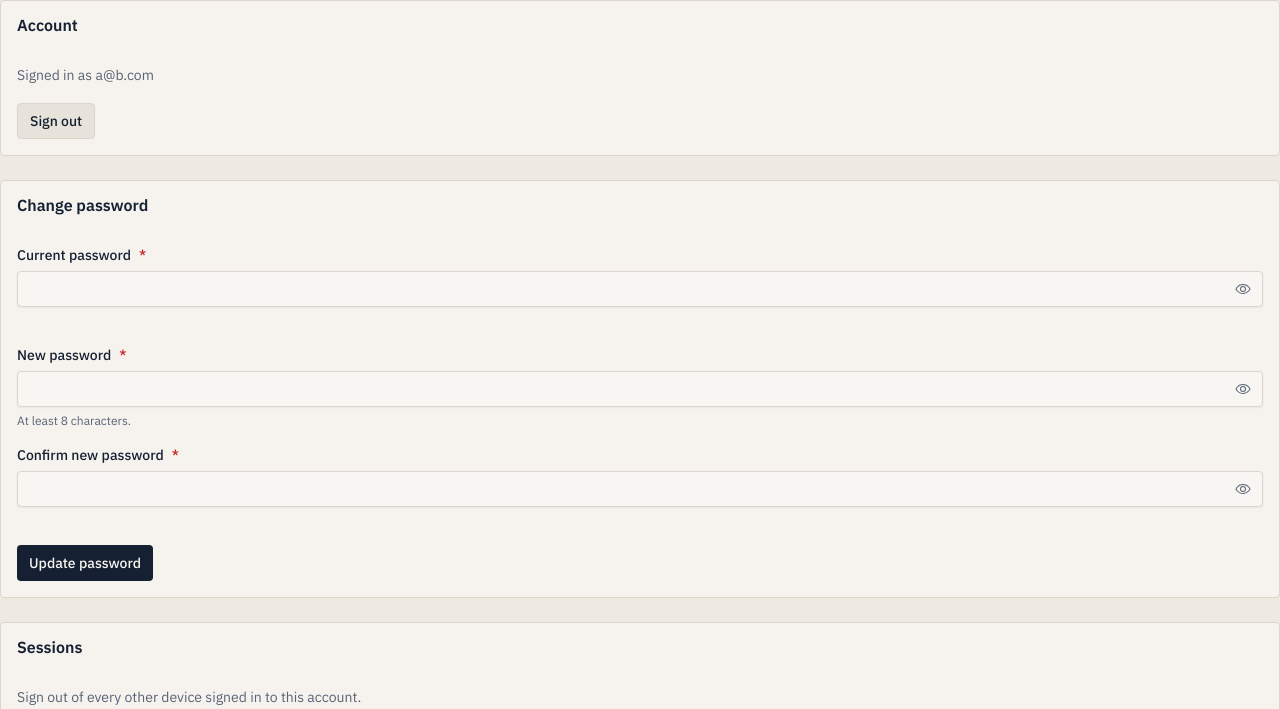
Test: SettingsPanel › change password › shows exactly one failure message — a Banner, never also a toast
Type "wrong" into the password field labelled "Current password *" at [640, 289], box [17,271,1263,307]
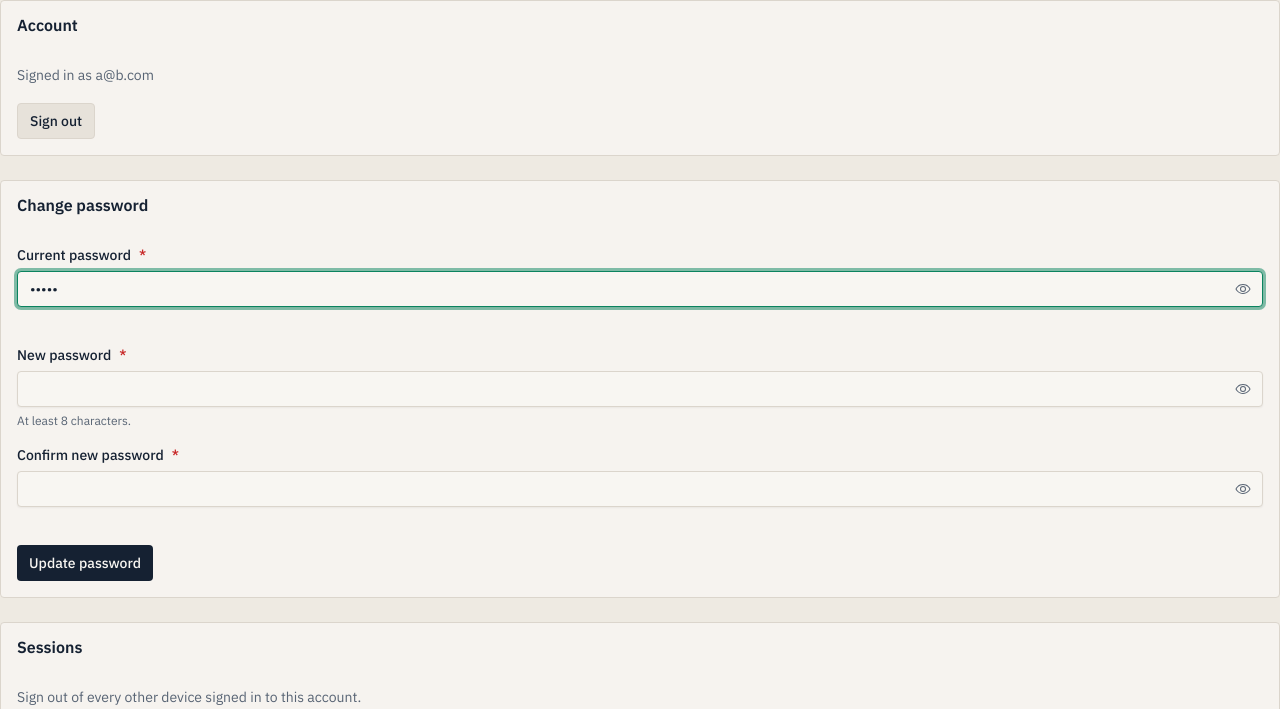
Type "password123" into the password field labelled "New password *" at [640, 389], box [17,371,1263,407]
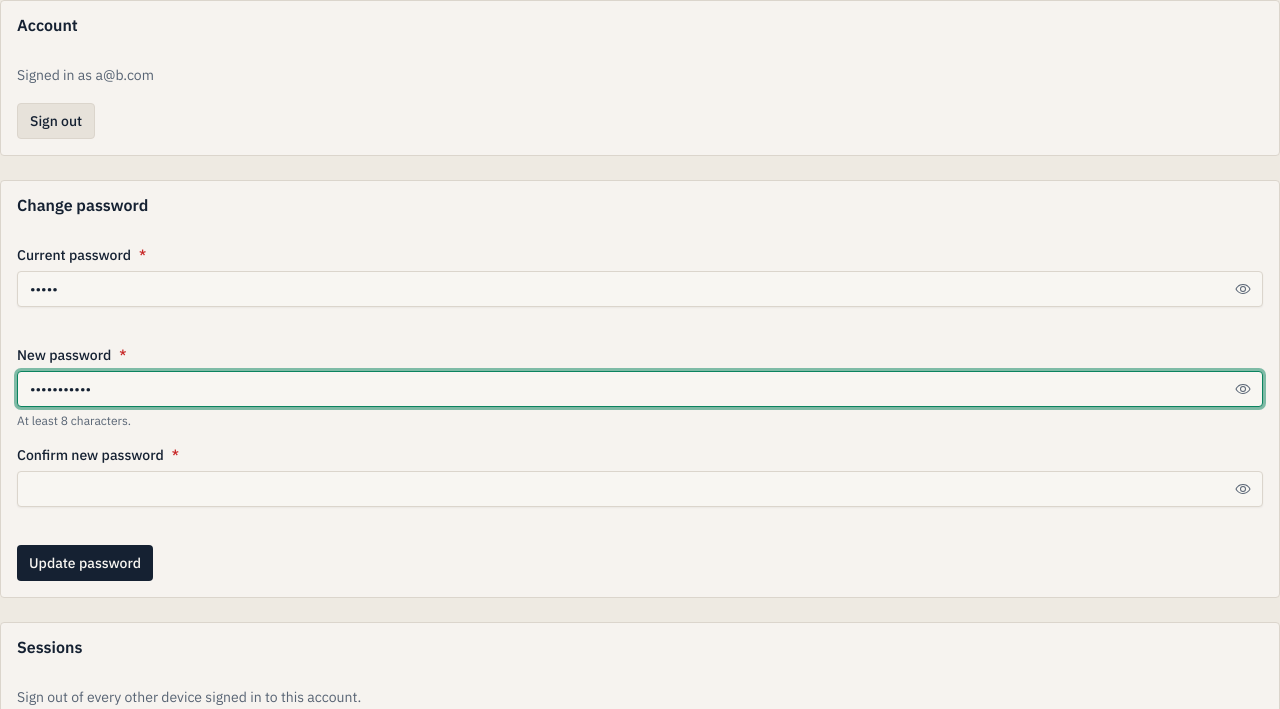
Type "password123" into the password field labelled "Confirm new password *" at [640, 489], box [17,471,1263,507]
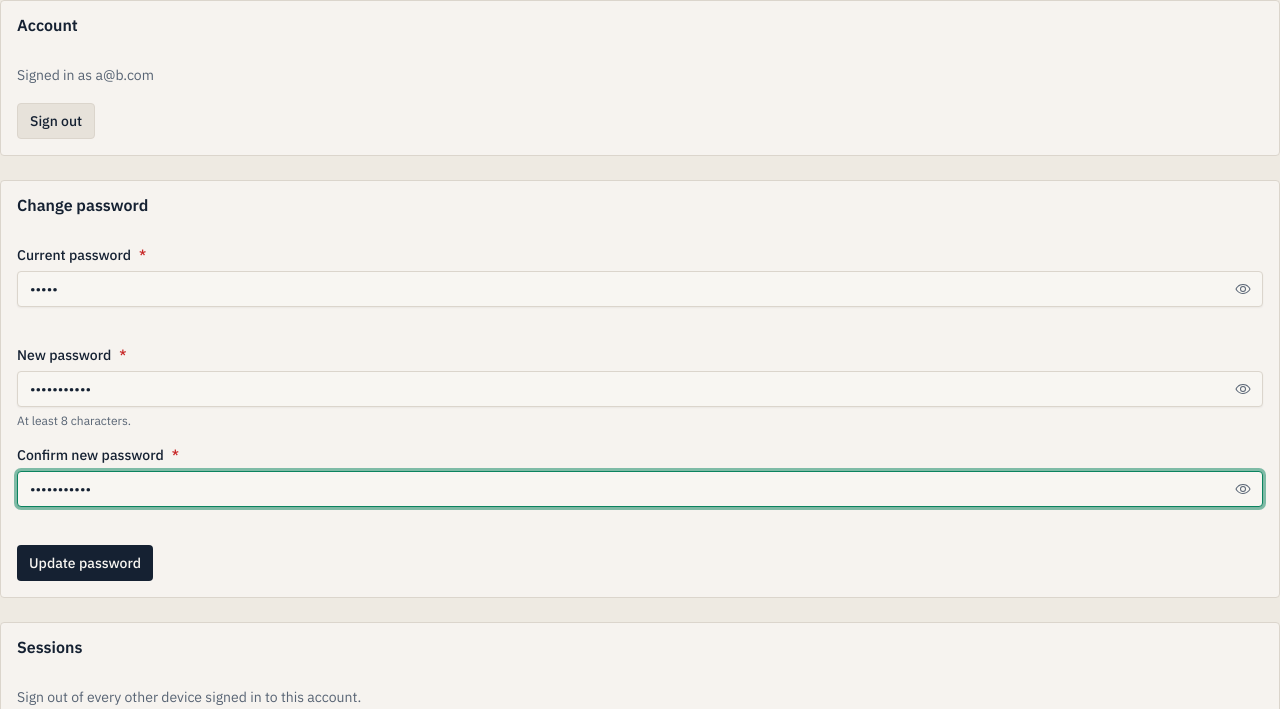
Click the button "Update password" at [85, 563], box [17,545,153,581]
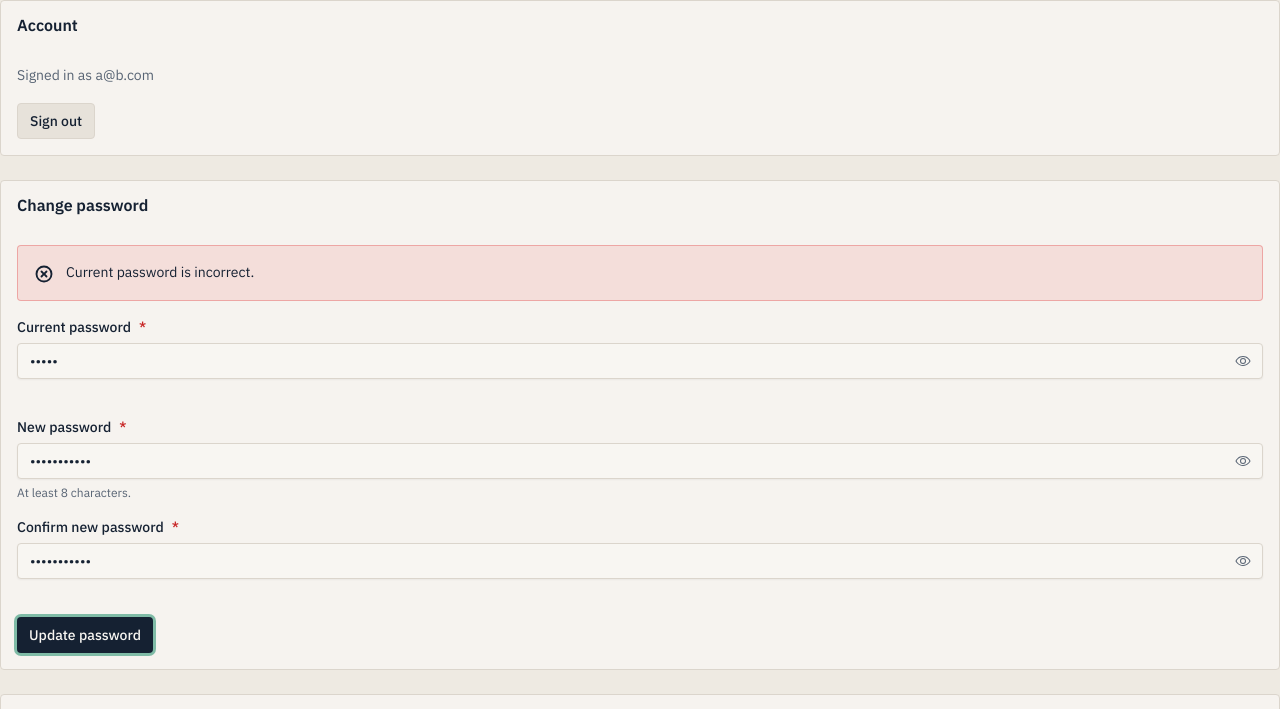
Expected: the message reads "Current password is incorrect.", [66,263,254,281]
